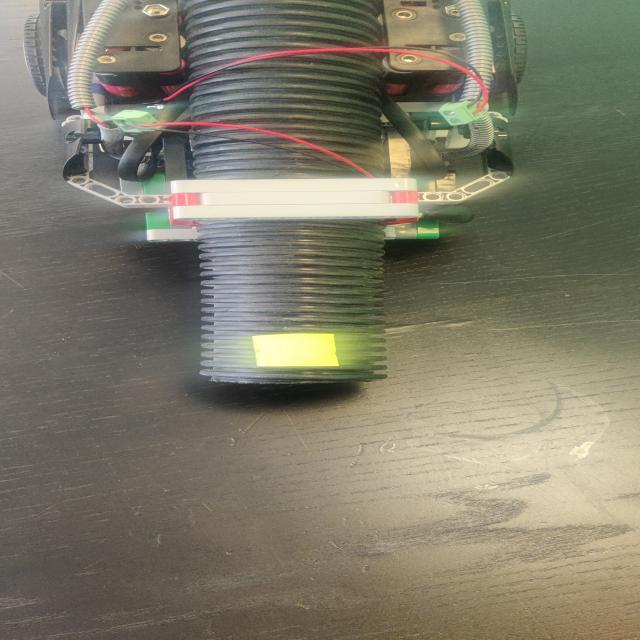robot: (21, 0, 527, 386)
robot-front: (211, 225, 378, 379)
